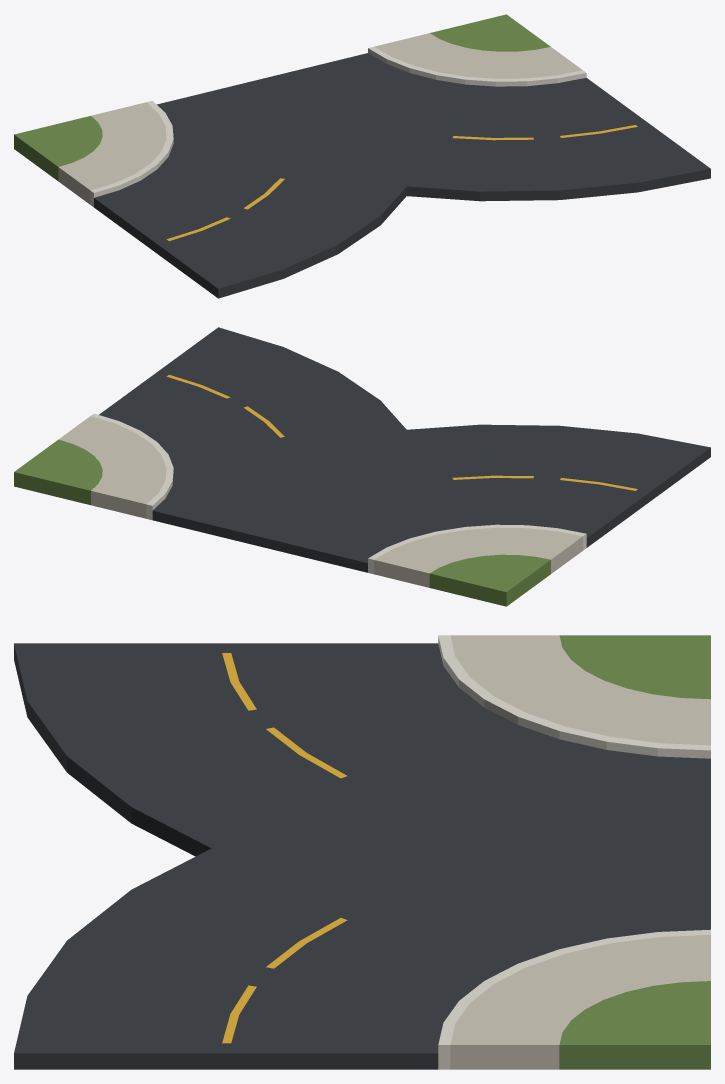
Rendered from Road_2Lane_Sidewalk_Intersection_Y.glb.
3 renders of one model, top to bottom at view 1: azimuth 30°, elevation 25°; view 2: azimuth 150°, elevation 25°; view 3: azimuth 270°, elevation 25°, orthographic. The views are drawn at different scales.
Visible parts, largest first — view 1: Road_2Lane_Sidewalk_Intersection_Y_Asphalt, Road_2Lane_Sidewalk_Intersection_Y_Sidewalk, Road_2Lane_Sidewalk_Intersection_Y_Grass-edge, Road_2Lane_Sidewalk_Intersection_Y_Curb, Road_2Lane_Sidewalk_Intersection_Y_PaintYellow; view 2: Road_2Lane_Sidewalk_Intersection_Y_Asphalt, Road_2Lane_Sidewalk_Intersection_Y_Sidewalk, Road_2Lane_Sidewalk_Intersection_Y_Grass-edge, Road_2Lane_Sidewalk_Intersection_Y_Curb, Road_2Lane_Sidewalk_Intersection_Y_PaintYellow; view 3: Road_2Lane_Sidewalk_Intersection_Y_Asphalt, Road_2Lane_Sidewalk_Intersection_Y_Sidewalk, Road_2Lane_Sidewalk_Intersection_Y_Grass-edge, Road_2Lane_Sidewalk_Intersection_Y_Curb, Road_2Lane_Sidewalk_Intersection_Y_PaintYellow.
Boxes of the visible parts, x1,y1,x2,y2 form: Road_2Lane_Sidewalk_Intersection_Y_Asphalt: (94,53,710,298); Road_2Lane_Sidewalk_Intersection_Y_Sidewalk: (58,33,582,204); Road_2Lane_Sidewalk_Intersection_Y_Grass-edge: (14,14,550,180); Road_2Lane_Sidewalk_Intersection_Y_Curb: (90,46,586,207); Road_2Lane_Sidewalk_Intersection_Y_PaintYellow: (166,125,637,241); Road_2Lane_Sidewalk_Intersection_Y_Asphalt: (99,327,710,572); Road_2Lane_Sidewalk_Intersection_Y_Sidewalk: (58,416,582,587); Road_2Lane_Sidewalk_Intersection_Y_Grass-edge: (14,439,550,606); Road_2Lane_Sidewalk_Intersection_Y_Curb: (91,413,586,574); Road_2Lane_Sidewalk_Intersection_Y_PaintYellow: (166,374,637,490); Road_2Lane_Sidewalk_Intersection_Y_Asphalt: (14,643,710,1069); Road_2Lane_Sidewalk_Intersection_Y_Sidewalk: (450,635,710,1069); Road_2Lane_Sidewalk_Intersection_Y_Grass-edge: (559,635,710,1069); Road_2Lane_Sidewalk_Intersection_Y_Curb: (438,635,710,1069); Road_2Lane_Sidewalk_Intersection_Y_PaintYellow: (222,653,347,1043).
Size of the model in its own units: 16 by 0.45 by 11.5.
